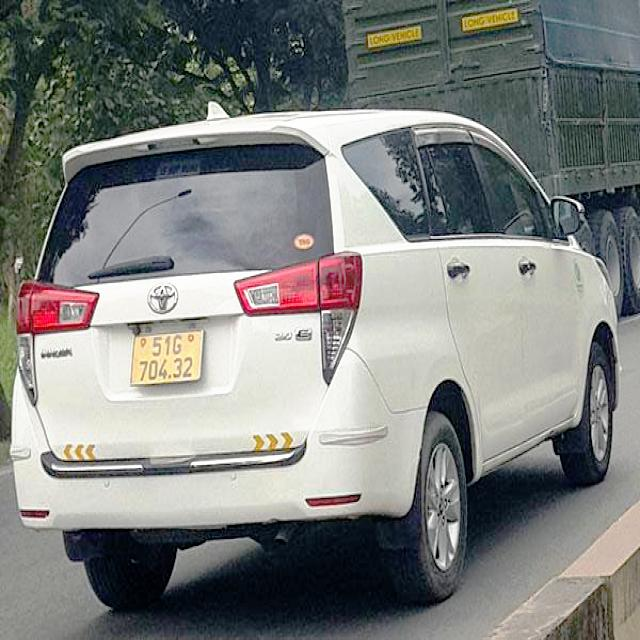license_plate: (129, 333, 206, 387)
